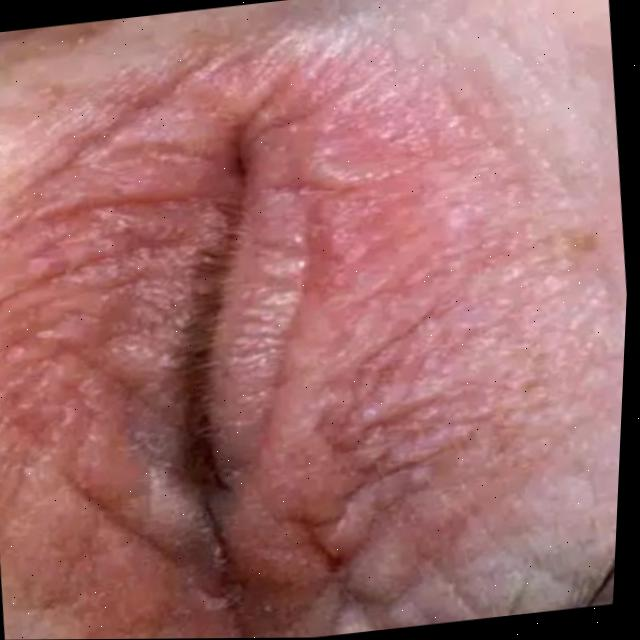Eczema: (0, 56, 496, 640)
